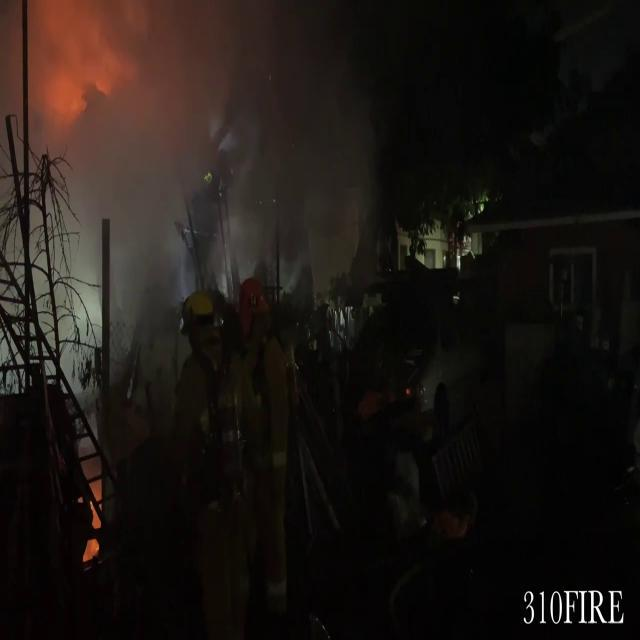Smoke: (23, 0, 380, 341)
